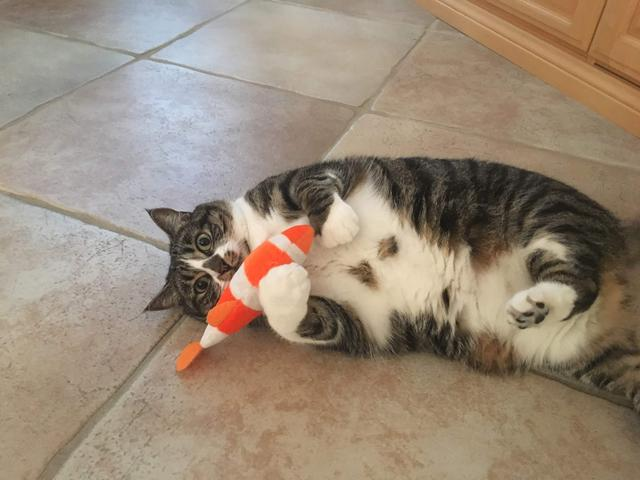clownfish: (172, 223, 313, 376)
playdoh: (139, 156, 640, 422)
